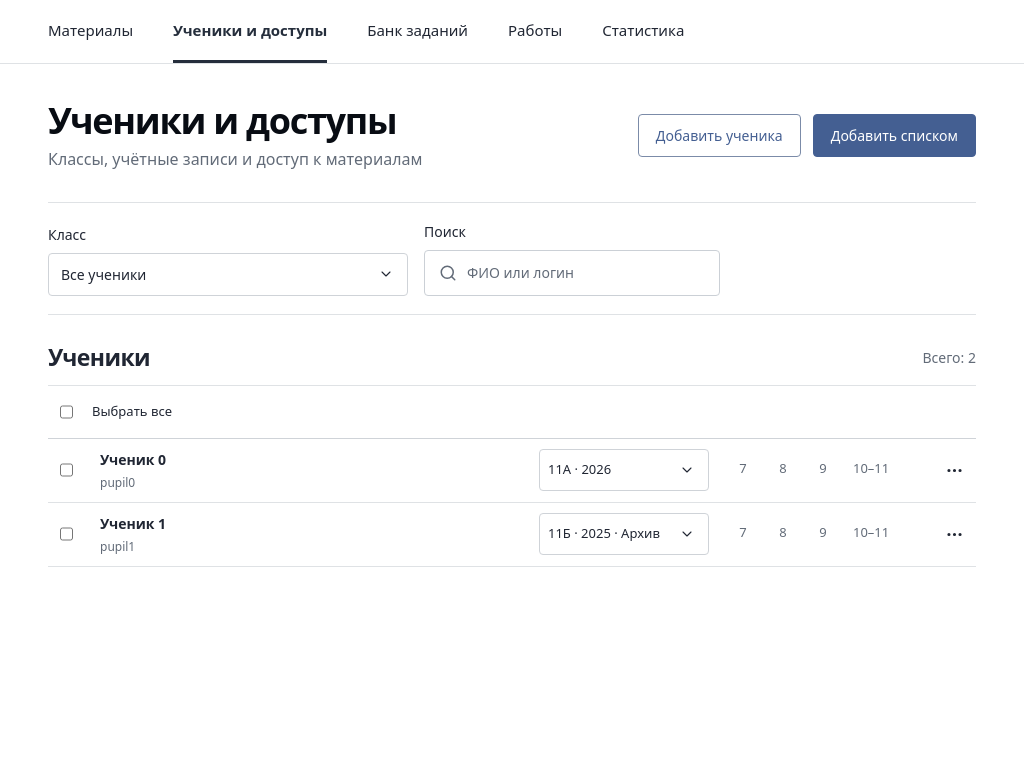
groups classes and filters archived pupils without a separate archive switch
Select "11Б · 2025–2026 · Архив" in the dropdown labelled "Класс" at (228, 274), box x1=48 y1=253 x2=408 y2=296
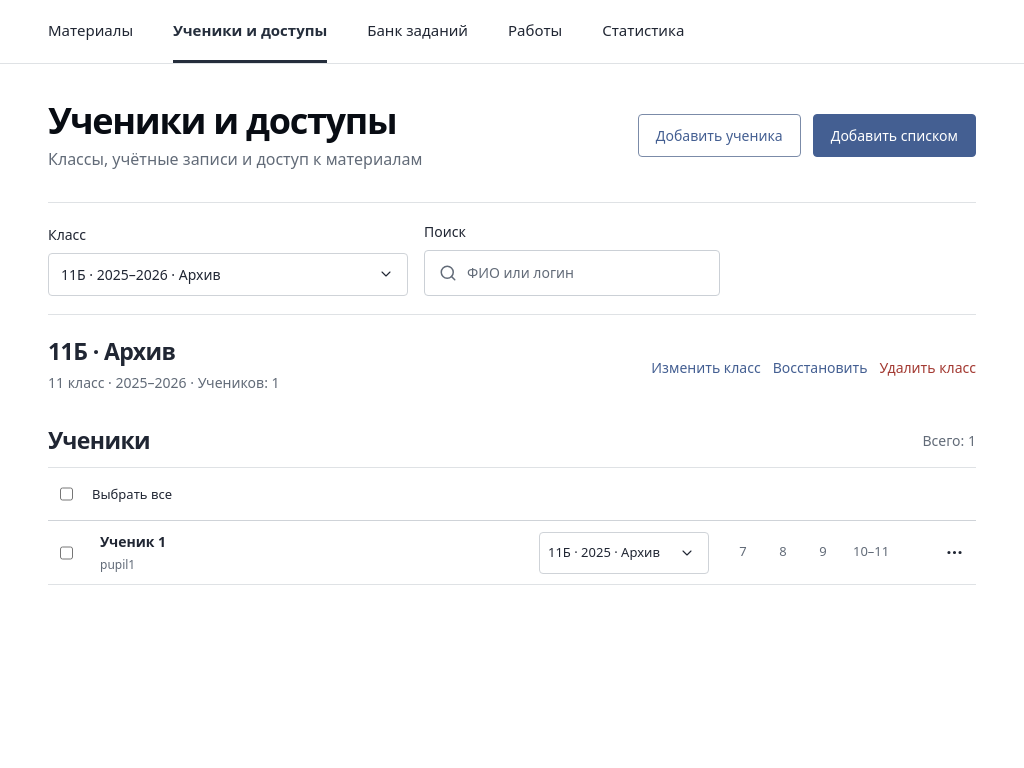
Now the heading "11Б · Архив" is shown, box x1=48 y1=335 x2=176 y2=367
Now the text "pupil0" is gone
Now the button "Восстановить" is shown, box x1=773 y1=357 x2=868 y2=378
Select "11А · 2026–2027" in the dropdown labelled "Класс" at (228, 274), box x1=48 y1=253 x2=408 y2=296
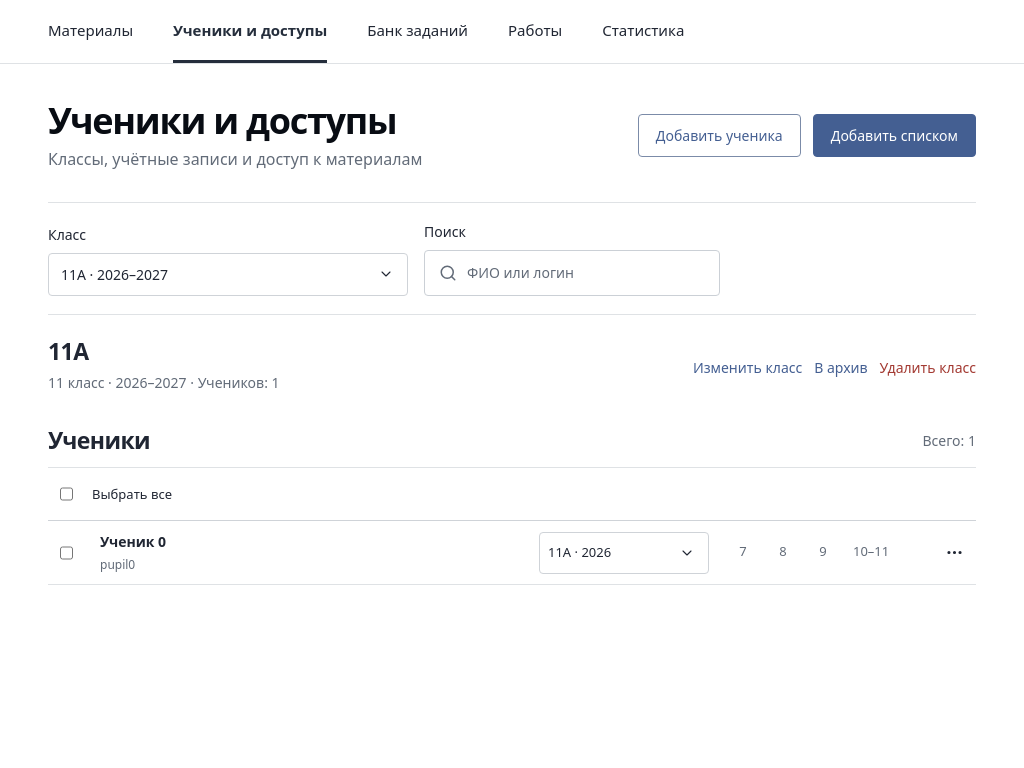
Now the text "pupil0" is shown, box x1=100 y1=556 x2=135 y2=573
Now the text "pupil1" is gone
